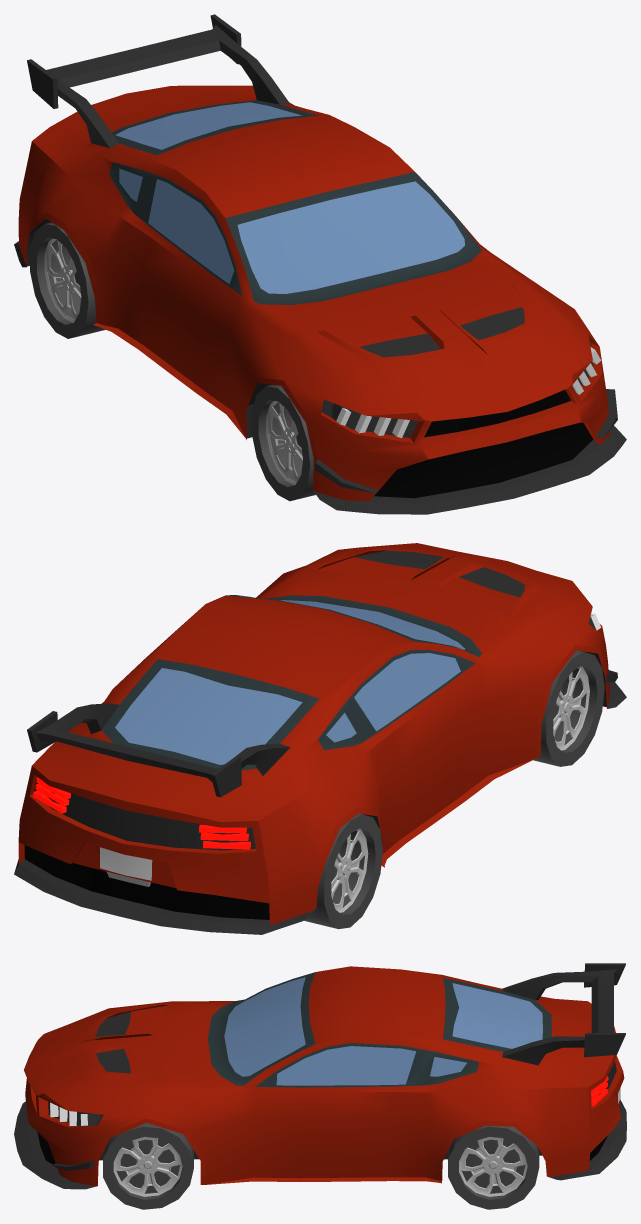
The model's file is ford.fbx.
The picture shows the model from 3 angles, top to bottom: view 1: azimuth 30°, elevation 25°; view 2: azimuth 150°, elevation 25°; view 3: azimuth 270°, elevation 25°; orthographic projection. The views are drawn at different scales.
Parts seen in each view (by area): view 1: car_ford, wheel_br_ford, wheel_fr_ford; view 2: car_ford, wheel_br_ford, wheel_fr_ford; view 3: car_ford, wheel_fl_ford, wheel_bl_ford.
Part boxes in pixels (x1,y1,x2,y2): car_ford: (14, 14, 626, 514); wheel_br_ford: (30, 222, 105, 338); wheel_fr_ford: (251, 385, 315, 501); car_ford: (14, 543, 626, 934); wheel_br_ford: (304, 813, 382, 929); wheel_fr_ford: (533, 650, 604, 766); car_ford: (14, 963, 626, 1189); wheel_fl_ford: (103, 1123, 193, 1209); wheel_bl_ford: (448, 1125, 539, 1209).
Size of the model in its own units: 220 by 142 by 499.
